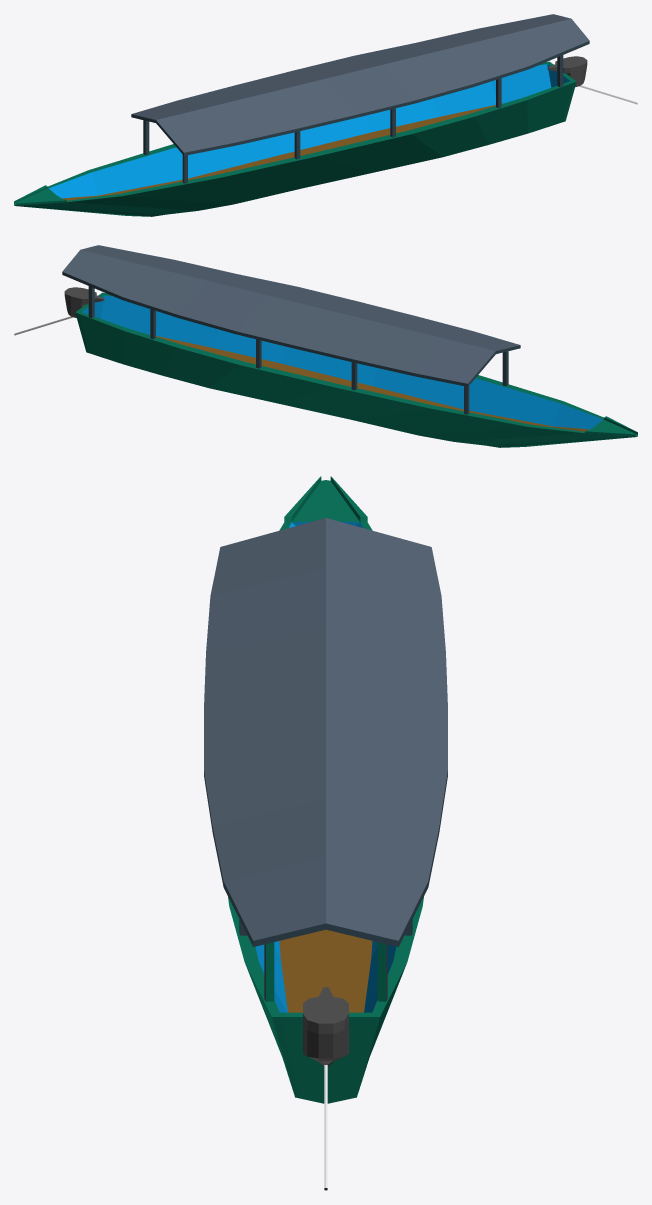
File: boat.gltf
3 renders of one model, top to bottom at view 1: azimuth 30°, elevation 25°; view 2: azimuth 150°, elevation 25°; view 3: azimuth 270°, elevation 25°, orthographic. The views are drawn at different scales.
Parts seen in each view (by area): view 1: Boat.001; view 2: Boat.001; view 3: Boat.001.
Boxes of the visible parts, left/top/right/bottom form: Boat.001: left=14, top=14, right=637, bottom=216; Boat.001: left=14, top=245, right=637, bottom=447; Boat.001: left=204, top=476, right=447, bottom=1190.
Bounding box in the file's own units: 20.44 × 3.19 × 3.47.
